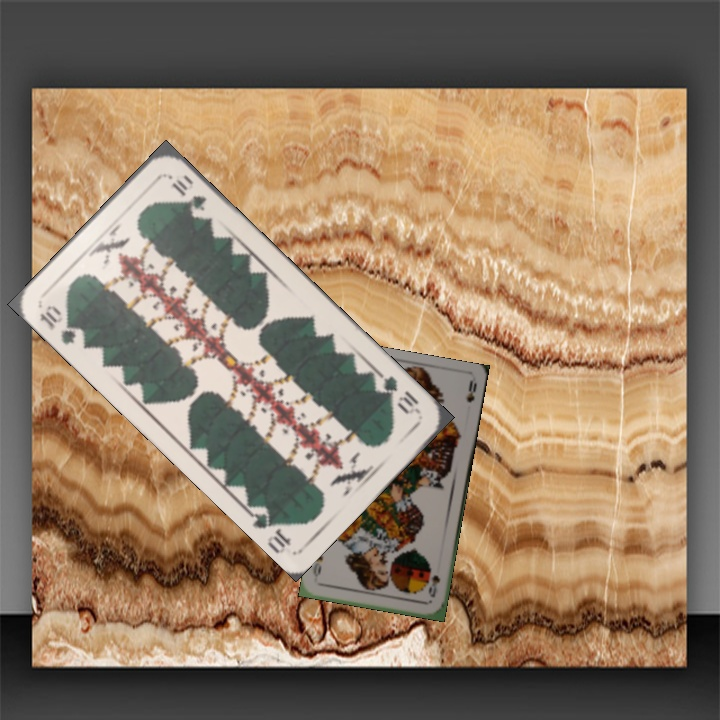G10: (376, 370, 423, 418), (35, 300, 81, 348)
SO: (424, 571, 442, 600)
